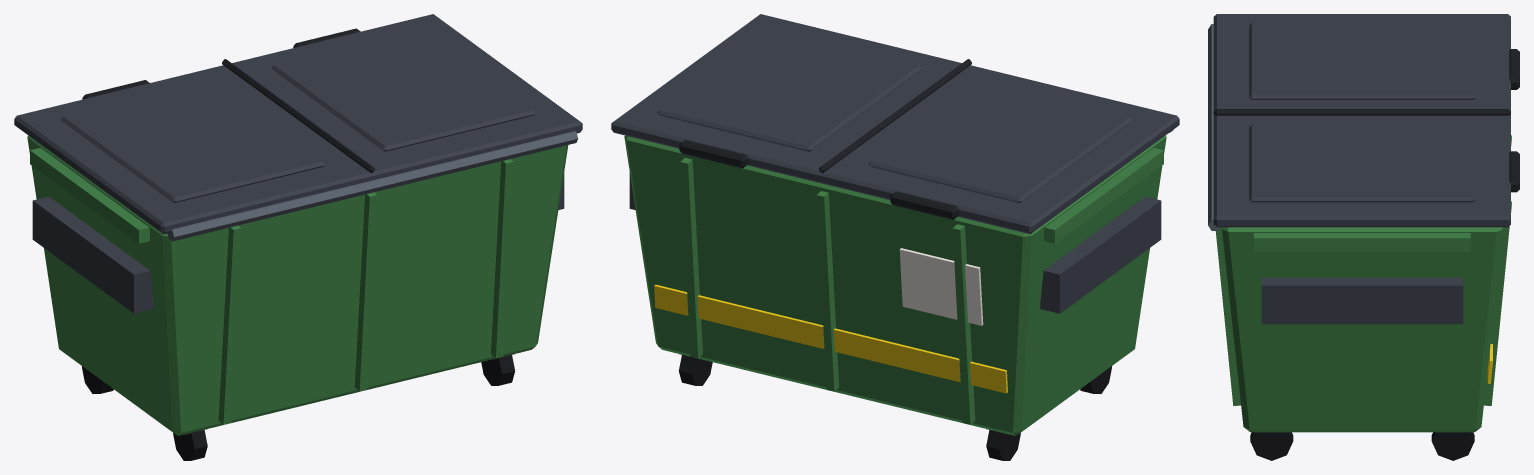
Rendered from dumpster.glb.
3 views of the same model, side by side, from view 1: azimuth 30°, elevation 25°; view 2: azimuth 150°, elevation 25°; view 3: azimuth 270°, elevation 25° (orthographic).
Visible parts, largest first — view 1: dumpster, Lid; view 2: dumpster, Lid; view 3: Lid, dumpster.
Boxes of the visible parts, x1,y1,x2,y2 form: dumpster: (27,131,578,460); Lid: (14,14,582,234); dumpster: (624,130,1173,460); Lid: (611,14,1179,234); Lid: (1213,14,1519,227); dumpster: (1208,24,1511,460).
Bounding box in the file's own units: 1.96 × 1.2 × 1.24.
